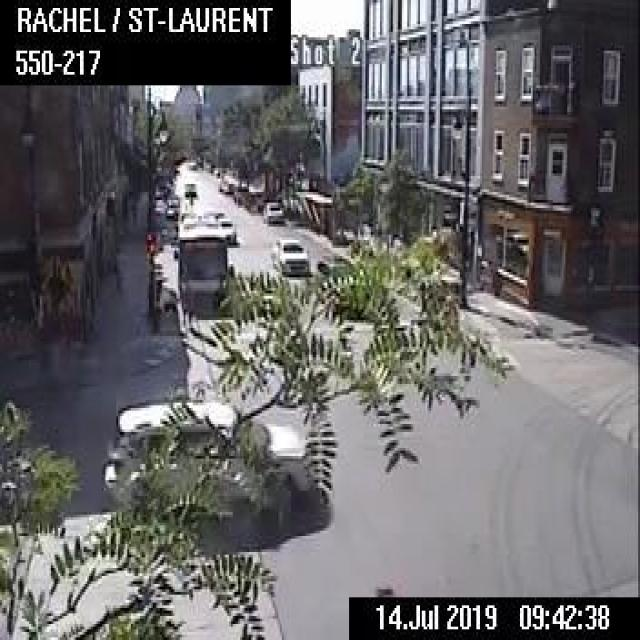bus: (174, 214, 227, 309)
pedestrian: (112, 244, 127, 292)
vehicle: (106, 396, 316, 526), (314, 251, 364, 313), (271, 236, 309, 274), (261, 199, 284, 224), (217, 216, 236, 242), (163, 195, 178, 216), (233, 185, 249, 204), (183, 181, 196, 195), (187, 157, 196, 170)
